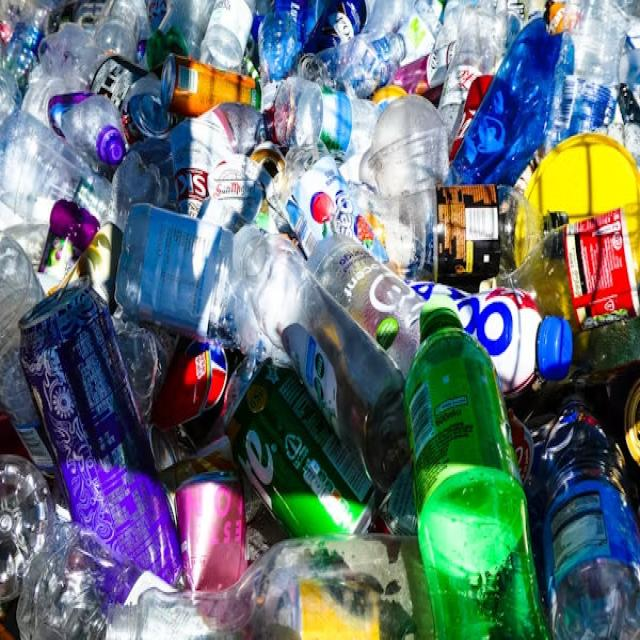Bottle: (405, 298, 549, 639), (20, 284, 181, 583), (233, 226, 407, 487), (308, 236, 571, 395), (106, 536, 433, 639), (222, 365, 375, 537), (543, 399, 639, 639), (447, 18, 562, 185), (359, 184, 545, 287), (410, 282, 572, 399), (16, 522, 171, 639), (499, 205, 639, 332), (308, 236, 424, 375), (116, 205, 233, 340), (0, 232, 54, 475), (0, 112, 111, 223), (546, 0, 626, 151), (282, 144, 386, 260), (359, 96, 449, 196), (439, 7, 506, 135), (0, 455, 55, 603), (275, 77, 379, 155), (91, 56, 177, 143), (162, 55, 260, 116), (318, 32, 406, 99), (50, 93, 125, 167), (0, 0, 57, 91), (39, 200, 99, 281), (147, 0, 215, 70), (370, 0, 442, 63), (39, 23, 106, 89), (573, 317, 639, 380), (259, 12, 299, 110), (393, 42, 456, 103), (200, 0, 254, 71), (304, 0, 375, 52), (22, 66, 84, 124), (450, 76, 492, 161), (94, 0, 150, 60), (272, 0, 326, 46), (362, 0, 427, 36), (435, 0, 476, 49), (618, 84, 639, 163), (0, 71, 22, 123)
